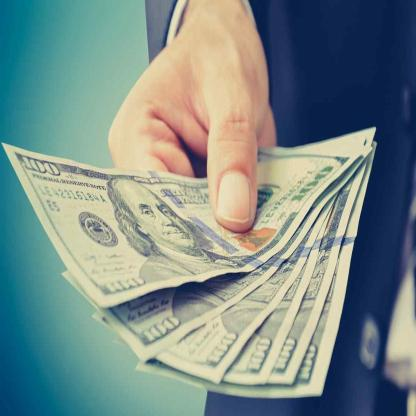billete: (2, 127, 376, 396)
